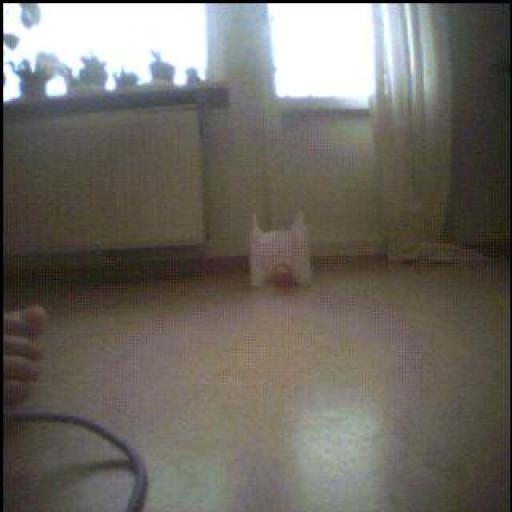Basket: (272, 264, 295, 290)
